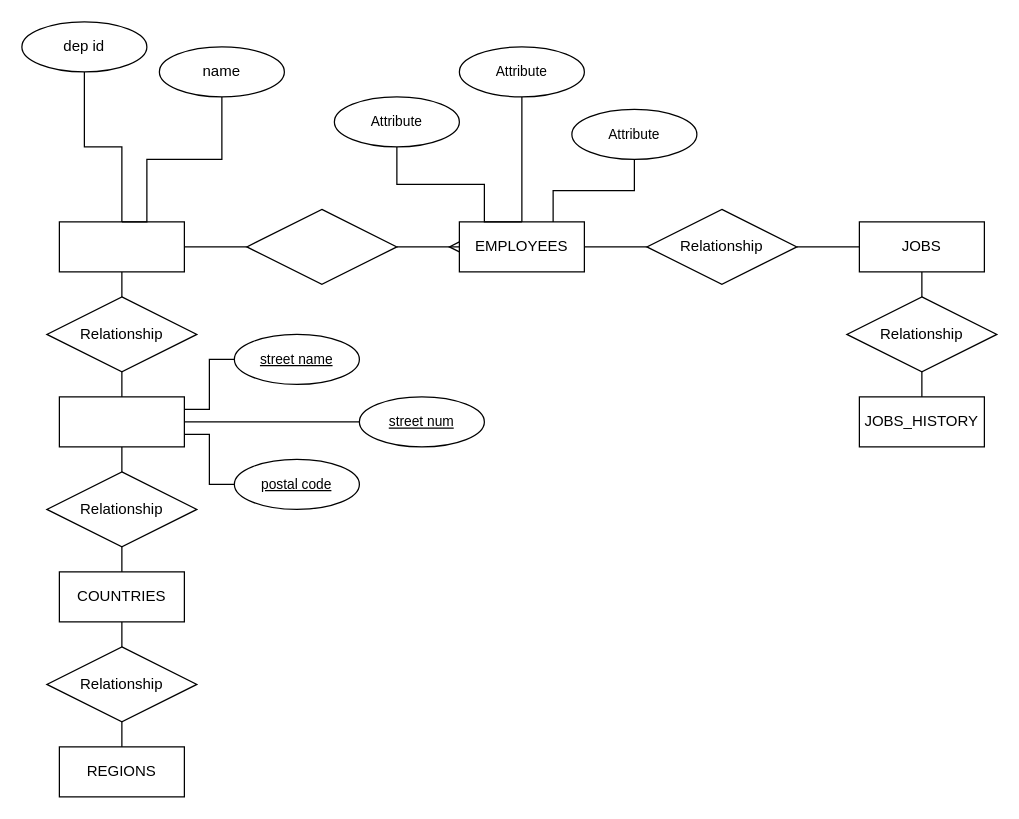
The diagram is 1019 pixels wide and 819 high, and some of its shapes have lost their labels. Here are the shapes that lost their labels. From the top down, the centre of each, then its label:
At point 121,246: "DEPARTMENTS".
At point 321,246: "HAVE".
At point 121,421: "LOCATIONS".
